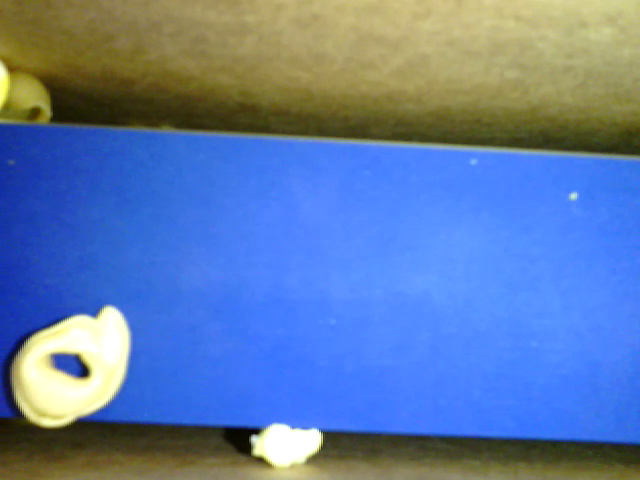shell: (1, 70, 56, 122)
tortellini: (11, 301, 134, 431)
